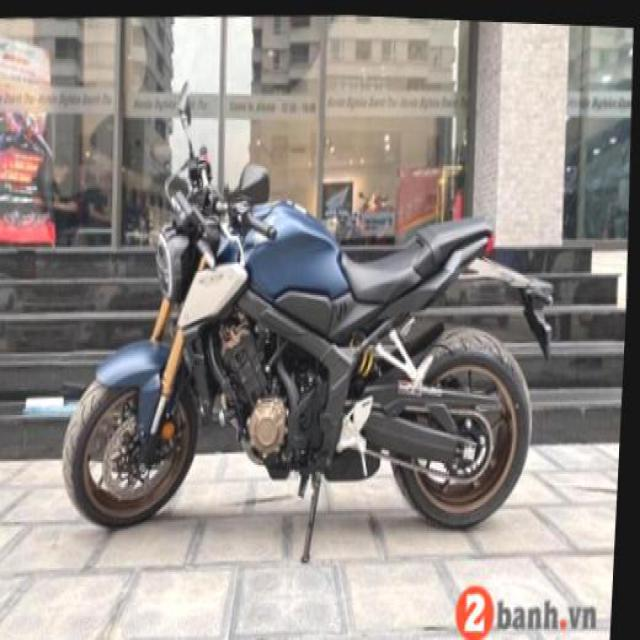CB650R: (56, 171, 551, 548)
